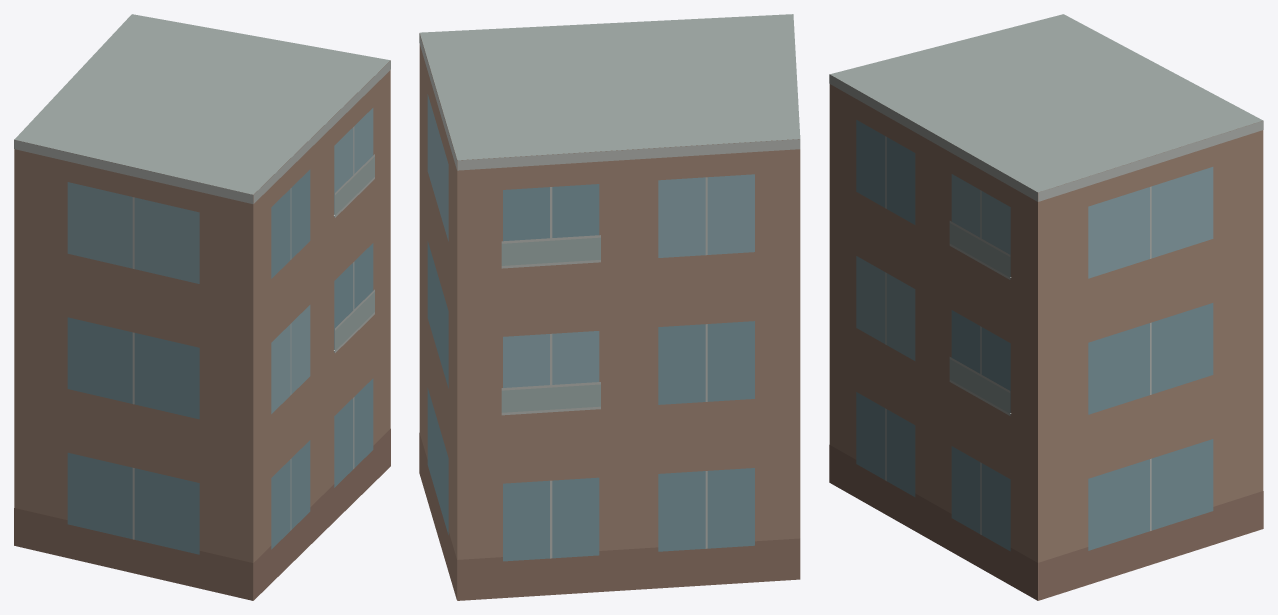
The model's file is survey-upis-33012516.glb.
The picture shows the model from 3 angles, left to right: view 1: azimuth 30°, elevation 25°; view 2: azimuth 150°, elevation 25°; view 3: azimuth 270°, elevation 25°; orthographic projection. The views are drawn at different scales.
Parts seen in each view (by area): view 1: survey-upis-33012516.tmp; view 2: survey-upis-33012516.tmp; view 3: survey-upis-33012516.tmp.
Boxes of the visible parts, x1=… form: survey-upis-33012516.tmp: x1=14, y1=14, x2=390, y2=600; survey-upis-33012516.tmp: x1=419, y1=14, x2=800, y2=600; survey-upis-33012516.tmp: x1=829, y1=14, x2=1263, y2=600.
Bounding box in the file's own units: 9.85 × 10.5 × 10.12.
